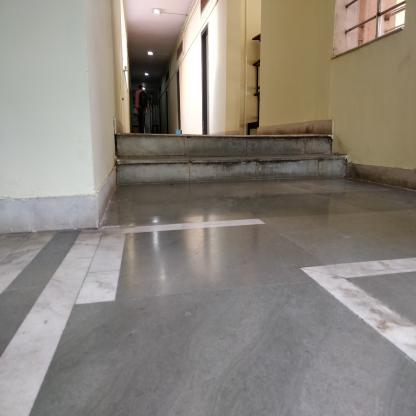stairs: (121, 131, 333, 187)
